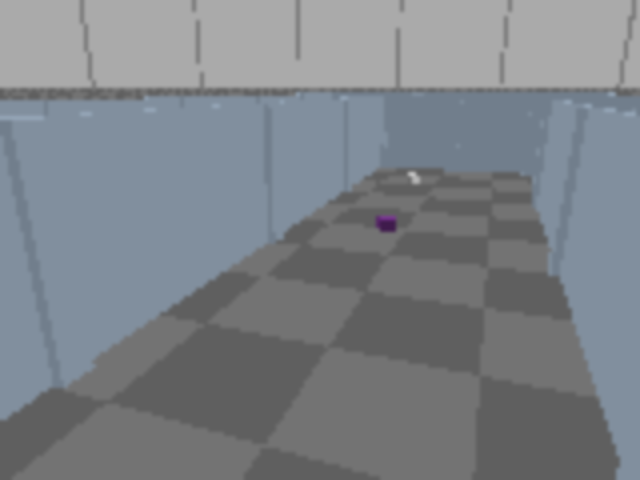puck: (378, 215, 395, 231)
